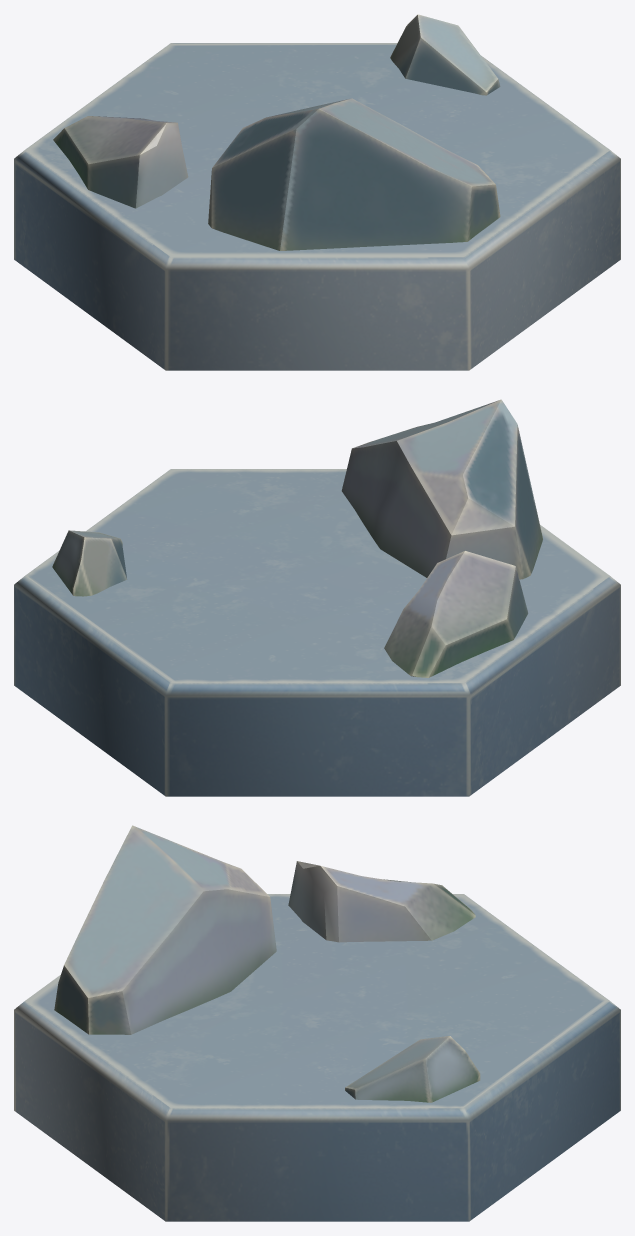
The model's file is stones1.fbx.
3 views of the same model, one above another, from view 1: azimuth 30°, elevation 25°; view 2: azimuth 150°, elevation 25°; view 3: azimuth 270°, elevation 25° (orthographic).
Parts seen in each view (by area): view 1: Stones1; view 2: Stones1; view 3: Stones1.
Boxes of the visible parts, x1,y1,x2,y2 form: Stones1: [14, 14, 620, 370]; Stones1: [14, 399, 620, 796]; Stones1: [14, 825, 620, 1221].
Size of the model in its own units: 83.34 by 42.1 by 96.24.
Materials: 2 (2 with a texture image).
